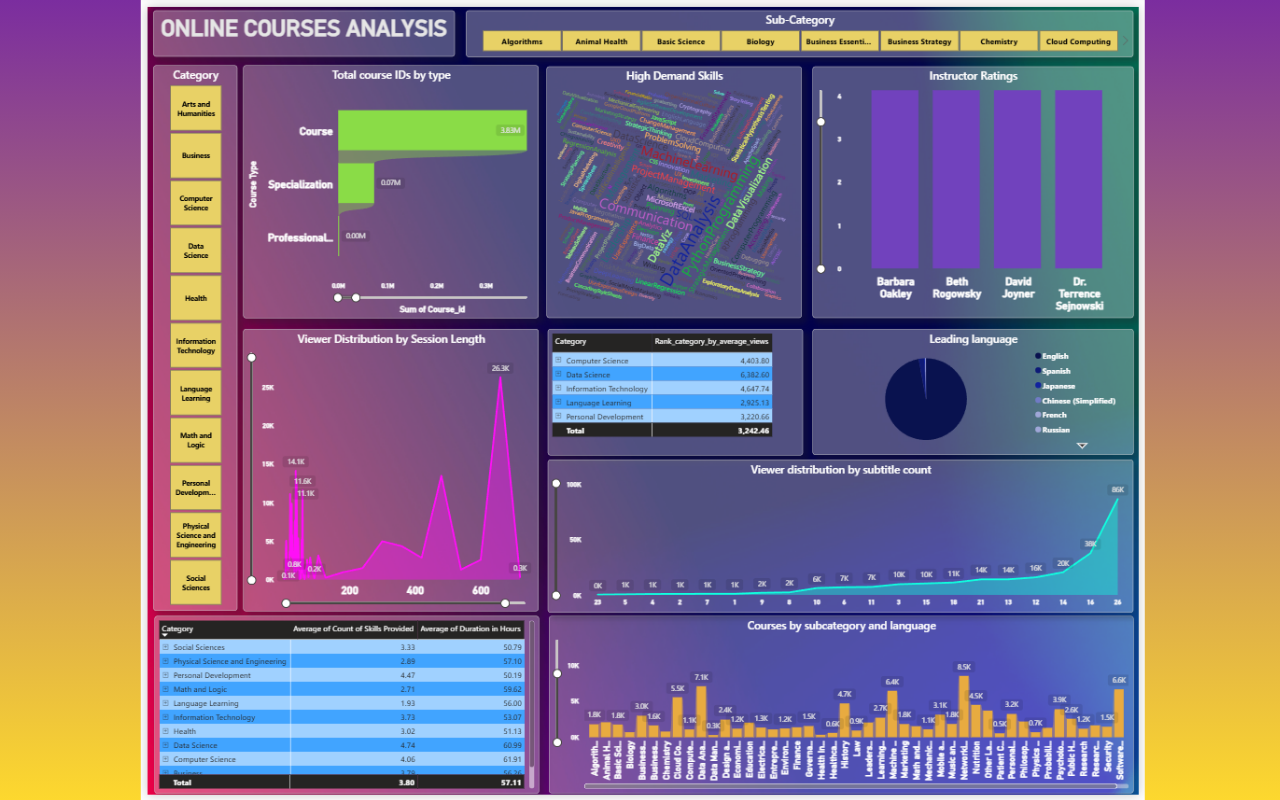

This screenshot's page, from the dashboard's own definition file:
{"tool":"powerbi","page":{"name":"Dashboard","canvas":[1700,1350],"ordinal":0},"visuals":[{"type":"slicer","title":"Category","fields":{"Values":["Online_Courses.Category"]},"box":[10.4,100,143.8,935.4],"z":0},{"type":"barChart","title":"Total course IDs by type","fields":{"Category":["Online_Courses.Course Type"],"Y":["Sum(Online_Courses.Course_id)"]},"box":[164.6,100,506.2,433.3],"z":1000},{"type":"columnChart","title":"Courses by subcategory and language","fields":{"Category":["Online_Courses.Language","Online_Courses.Sub-Category"],"Y":["Avg(Online_Courses.Number of viewers)"]},"box":[746,1044,944,304],"z":2000},{"type":"WordCloud1447959067750","title":"High Demand Skills","fields":{"Category":["Online_Courses.Skills"]},"box":[683.3,102.1,437.5,431.2],"z":3000},{"type":"pieChart","title":"Leading language","fields":{"Category":["Online_Courses.Language"],"Y":["Sum(Online_Courses.Course_id)"]},"box":[1140,552,550,216],"z":4000},{"type":"pivotTable","title":"SDFE","fields":{"Rows":["Online_Courses.Category","Online_Courses.Language"],"Values":["Online_Courses.Rank_category_by_average_views"]},"box":[686.4,552.3,437.5,216.7],"z":5000},{"type":"lineChart","title":"Viewer distribution by subtitle count","fields":{"Category":["Online_Courses.New_Subtitle_Language_Count"],"Y":["Avg(Online_Courses.Number of viewers)"]},"box":[686,776,1004,262],"z":6000},{"type":"clusteredColumnChart","title":"Instructor Ratings","fields":{"Category":["Teachers.Instructors"],"Y":["Teachers.Instructors_Rating"]},"box":[1139.6,102.1,550,431.2],"z":7000},{"type":"slicer","title":"Sub-Category","fields":{"Values":["Teachers.Sub-Category"]},"box":[546,6,1144,80],"z":8000},{"type":"lineChart","title":"Viewer Distribution by Session Length","fields":{"Y":["Avg(Online_Courses.Number of viewers)"],"Category":["Online_Courses.Duration in Hours"]},"box":[164.5,552.2,506.1,483.9],"z":9000},{"type":"pivotTable","fields":{"Rows":["Online_Courses.Category","Online_Courses.Sub-Category"],"Values":["Avg(Online_Courses.Count of Skills Provided )","Avg(Online_Courses.Duration in Hours)"]},"box":[12,1044,718,304],"z":10000},{"type":"textbox","box":[10.4,6.2,516.7,79.2],"z":11000}]}

Visuals, with their boxes in screenshot pixels (x1, y1, x2, y2):
"Category" slicer: <region>149, 62, 233, 608</region>
"Total course IDs by type" barChart: <region>240, 62, 535, 315</region>
"Courses by subcategory and language" columnChart: <region>579, 613, 1131, 791</region>
"High Demand Skills" WordCloud1447959067750: <region>543, 63, 798, 315</region>
"Leading language" pieChart: <region>810, 326, 1131, 452</region>
"SDFE" pivotTable: <region>544, 326, 800, 453</region>
"Viewer distribution by subtitle count" lineChart: <region>544, 457, 1131, 610</region>
"Instructor Ratings" clusteredColumnChart: <region>809, 63, 1131, 315</region>
"Sub-Category" slicer: <region>462, 7, 1131, 54</region>
"Viewer Distribution by Session Length" lineChart: <region>239, 326, 535, 609</region>
pivotTable - Online_Courses.Category x Online_Courses.Sub-Category: <region>150, 613, 570, 791</region>
textbox: <region>149, 7, 451, 53</region>
